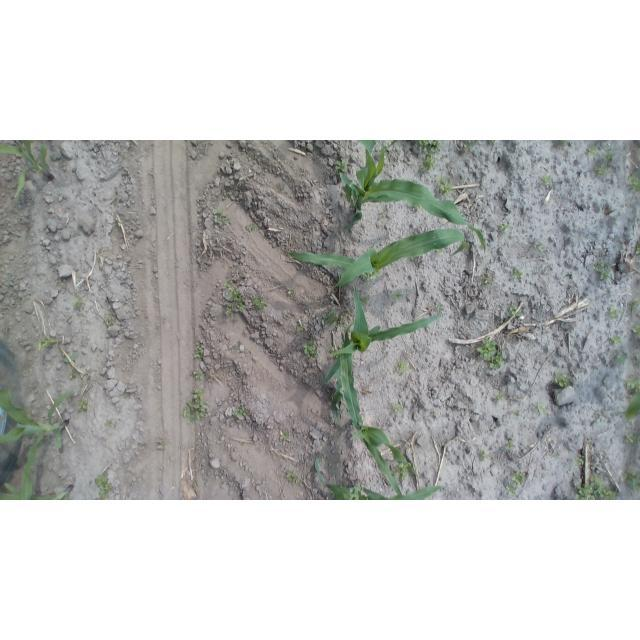Maize: (338, 140, 483, 262), (321, 286, 439, 430), (283, 229, 473, 289), (333, 380, 416, 491), (1, 389, 71, 500), (315, 461, 448, 500), (1, 140, 53, 202)
Weeds: (572, 475, 613, 500), (182, 388, 208, 425), (477, 338, 504, 370), (224, 281, 247, 313), (507, 471, 524, 498), (95, 474, 112, 499), (624, 469, 639, 492), (436, 177, 454, 196), (552, 371, 571, 389), (595, 262, 612, 281), (213, 209, 231, 226), (397, 461, 411, 479), (626, 174, 639, 193), (506, 304, 522, 319), (303, 342, 318, 358), (420, 154, 434, 171), (418, 140, 441, 150), (626, 378, 638, 397), (322, 309, 338, 323), (592, 409, 608, 423), (285, 468, 299, 484), (335, 159, 349, 174), (232, 406, 248, 419), (253, 297, 268, 310), (607, 307, 621, 320), (596, 164, 609, 177), (615, 352, 629, 364), (194, 343, 203, 359), (78, 398, 89, 411), (393, 404, 404, 417), (541, 174, 552, 186), (533, 241, 543, 254), (552, 141, 570, 148), (395, 361, 406, 372), (625, 433, 637, 443), (493, 392, 505, 402), (379, 208, 388, 221), (103, 315, 113, 326), (280, 430, 290, 441), (536, 404, 546, 415), (482, 275, 493, 285), (74, 297, 84, 308), (587, 146, 598, 156), (610, 334, 621, 344), (512, 269, 522, 280), (604, 151, 615, 161), (393, 292, 403, 303), (362, 272, 374, 281), (465, 141, 478, 149), (630, 298, 638, 311), (193, 370, 203, 380), (480, 450, 489, 461), (507, 440, 516, 451), (576, 456, 585, 466), (498, 222, 508, 231), (433, 303, 443, 312), (630, 326, 638, 337), (330, 348, 338, 358), (104, 419, 114, 427), (191, 481, 199, 490), (68, 370, 76, 379), (157, 442, 165, 450), (295, 324, 303, 332), (278, 182, 285, 191), (247, 224, 256, 231), (511, 410, 519, 417), (122, 392, 130, 399), (287, 289, 294, 296), (601, 249, 608, 255), (553, 450, 559, 456)
